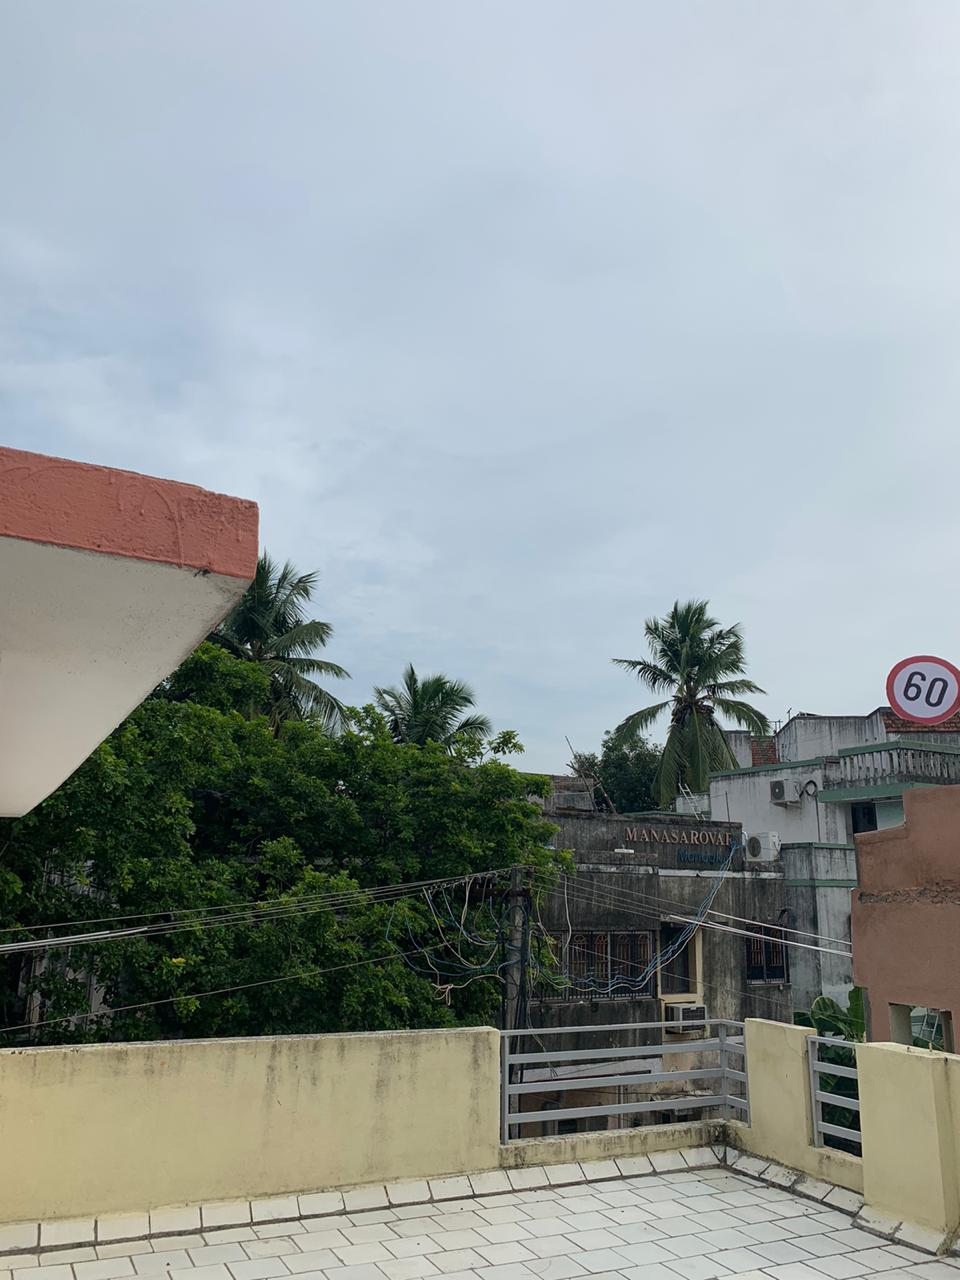SPEED LIMIT(60 KM/H): (870, 627, 960, 720)
